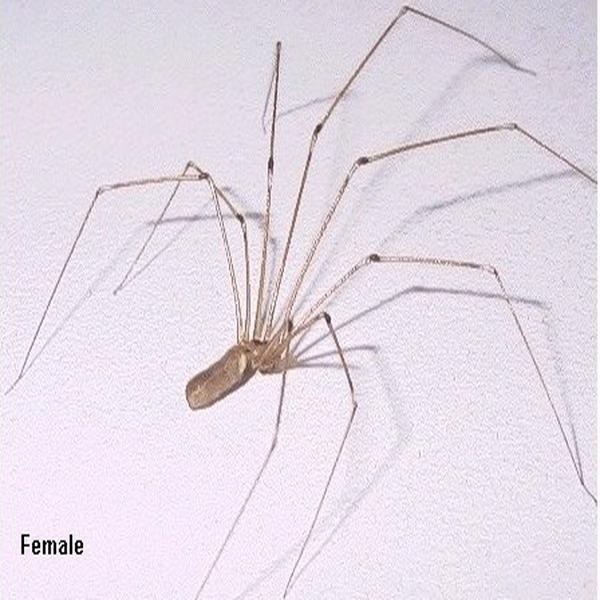Daddy Long Legs Spider: (54, 7, 554, 550)
